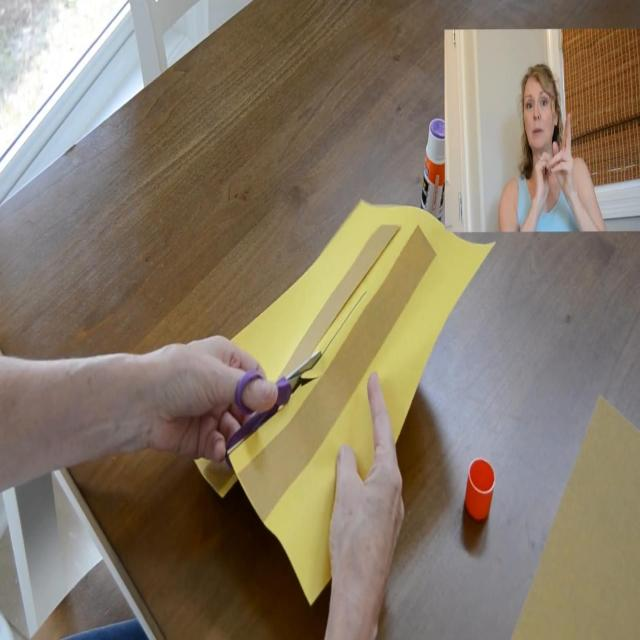scissor: (225, 349, 322, 468)
